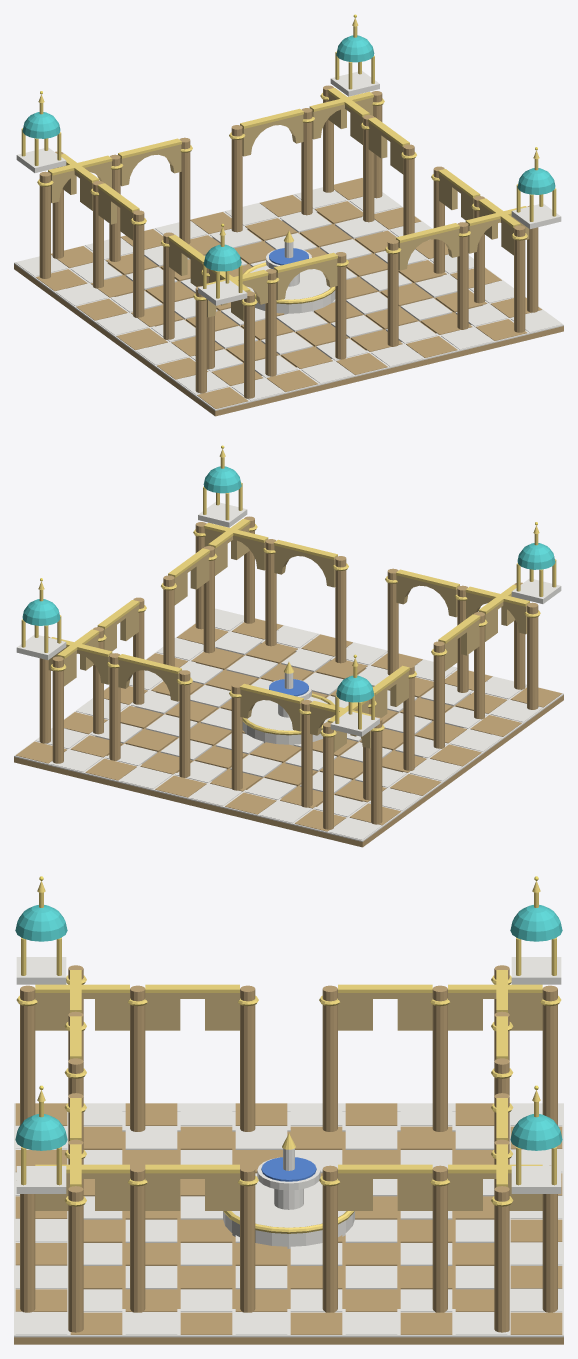
File: room_courtyard.glb
3 renders of one model, top to bottom at view 1: azimuth 30°, elevation 25°; view 2: azimuth 150°, elevation 25°; view 3: azimuth 270°, elevation 25°, orthographic. The views are drawn at different scales.
Visible parts, largest first — view 1: Room_Courtyard; view 2: Room_Courtyard; view 3: Room_Courtyard.
Part boxes in pixels (x1=…): Room_Courtyard: x1=14, y1=14, x2=563, y2=416; Room_Courtyard: x1=14, y1=445, x2=563, y2=847; Room_Courtyard: x1=14, y1=876, x2=563, y2=1344.
Bounding box in the file's own units: 20 × 9.93 × 20.
